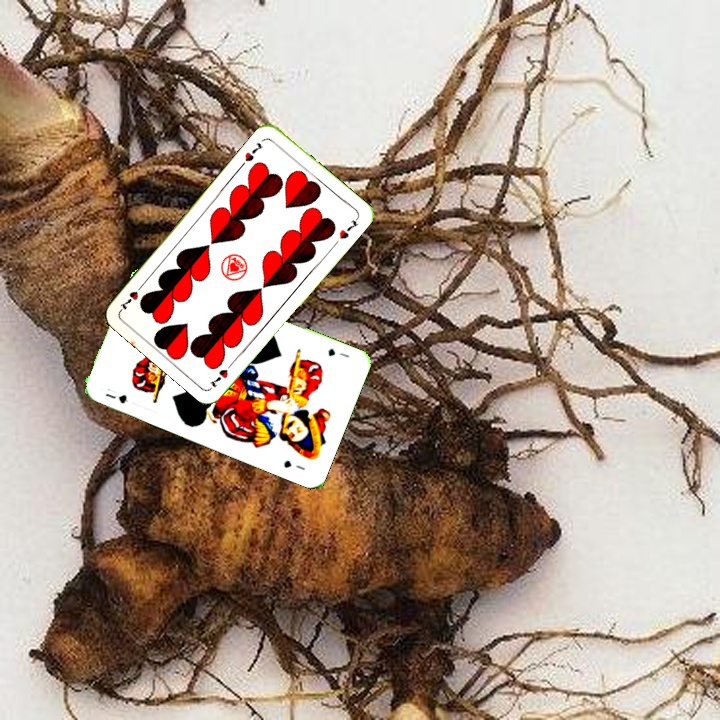GU: (101, 389, 131, 406), (324, 344, 352, 360)
H7: (205, 357, 237, 390), (241, 138, 266, 164)
